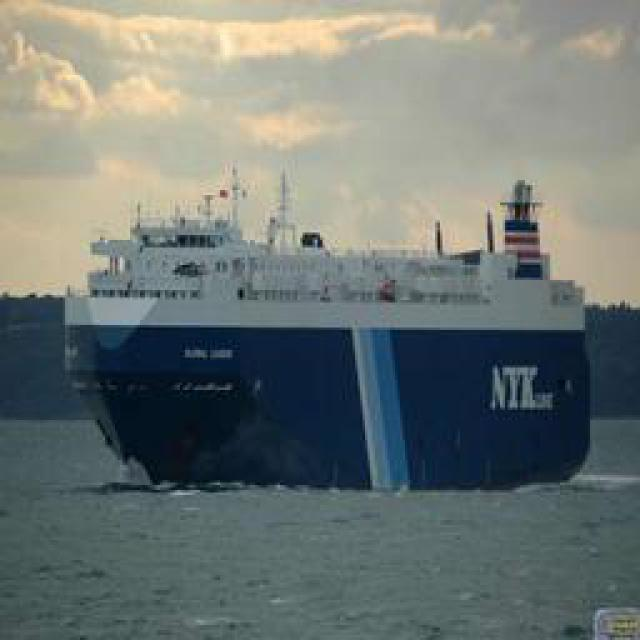Ship: (60, 157, 600, 480)
